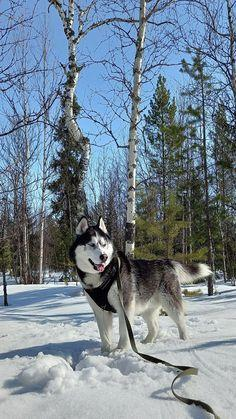dog: (70, 217, 211, 351)
